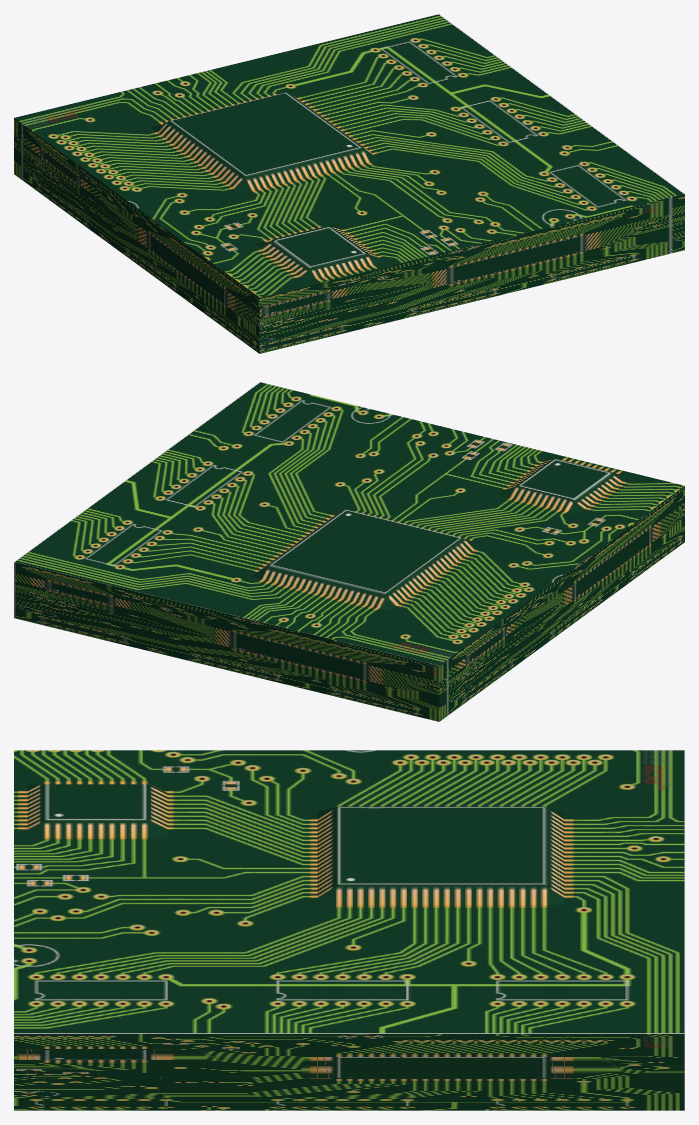
3 views of the same model, one above another, from view 1: azimuth 30°, elevation 25°; view 2: azimuth 150°, elevation 25°; view 3: azimuth 270°, elevation 25° (orthographic). The views are drawn at different scales.
Parts seen in each view (by area): view 1: Cube; view 2: Cube; view 3: Cube.
Boxes of the visible parts, box(x1,y1,x2,y2) form: Cube: box(14, 14, 684, 353); Cube: box(14, 382, 684, 721); Cube: box(14, 750, 684, 1110).
Bounding box in the file's own units: 2.07 × 0.3055 × 2.07.
Materials: 1 (1 with a texture image).
